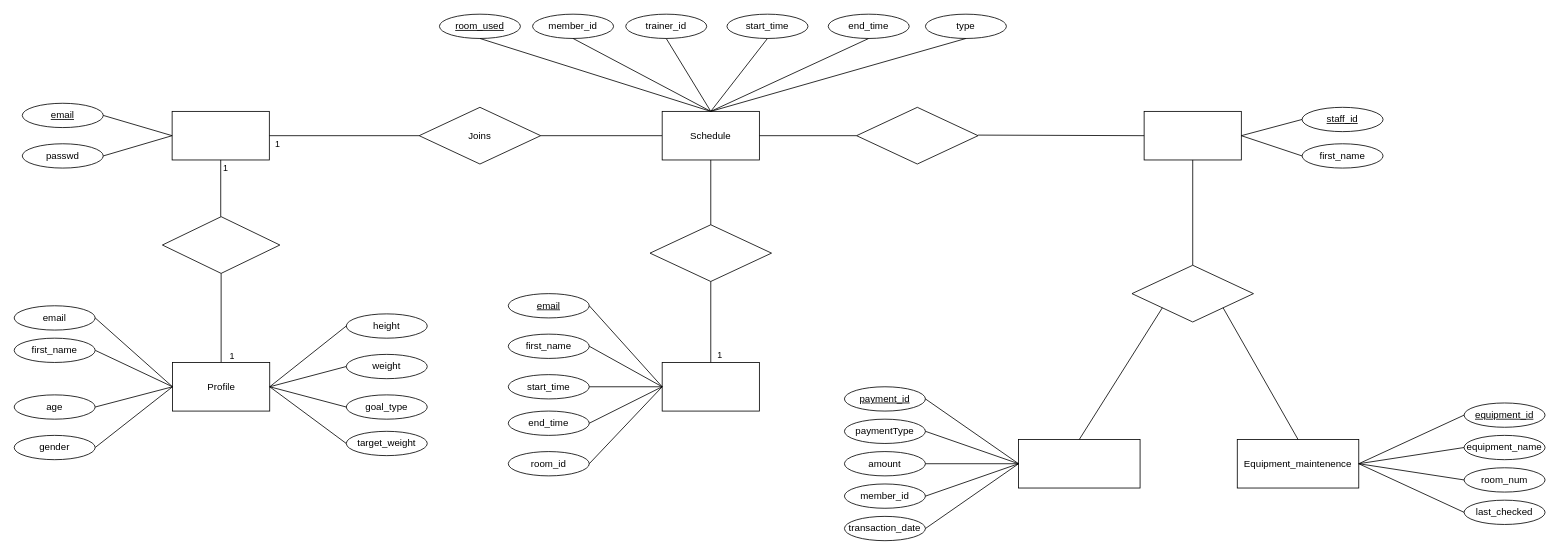
This 1559x555 diagram has some shape labels left out. Here are the shapes that lost their labels. From the top down, the box of each, then its label:
(171, 111, 269, 160): Members
(856, 107, 978, 164): Updates
(1143, 111, 1241, 160): Admin_staff
(162, 216, 280, 273): Makes a
(649, 224, 772, 281): Makes
(1131, 264, 1253, 322): Manages
(661, 362, 759, 411): Trainer
(1018, 439, 1140, 488): Payment
